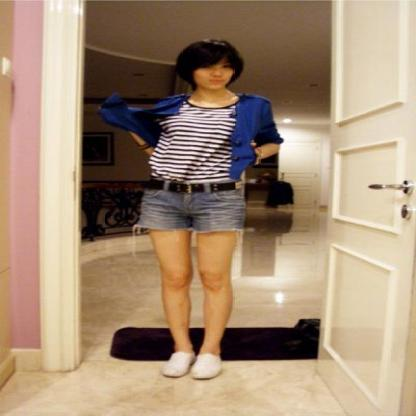shirt: (99, 95, 283, 179), (149, 100, 235, 182)
shoe: (162, 354, 218, 374)
shorts: (137, 175, 255, 232)
